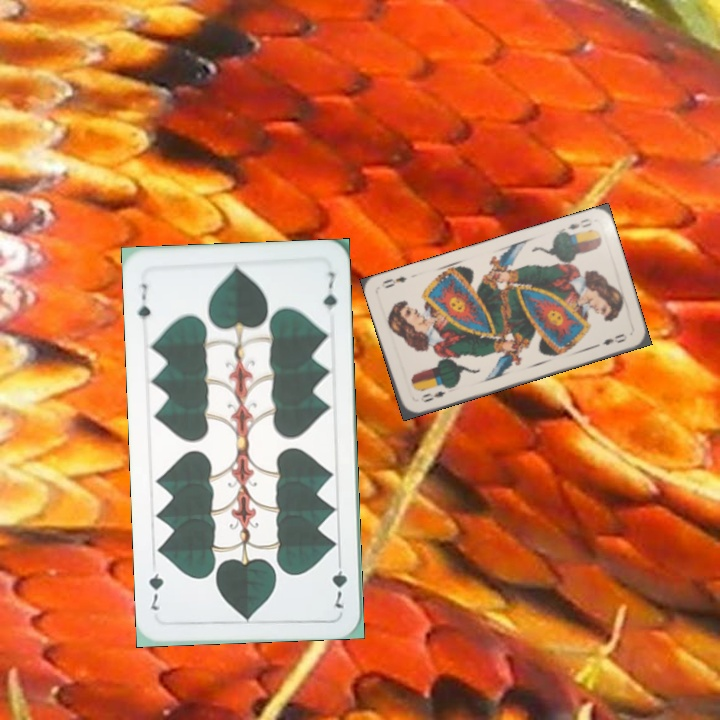EO: (417, 387, 448, 405), (564, 214, 594, 232)
G7: (328, 554, 350, 611), (133, 279, 153, 322)
